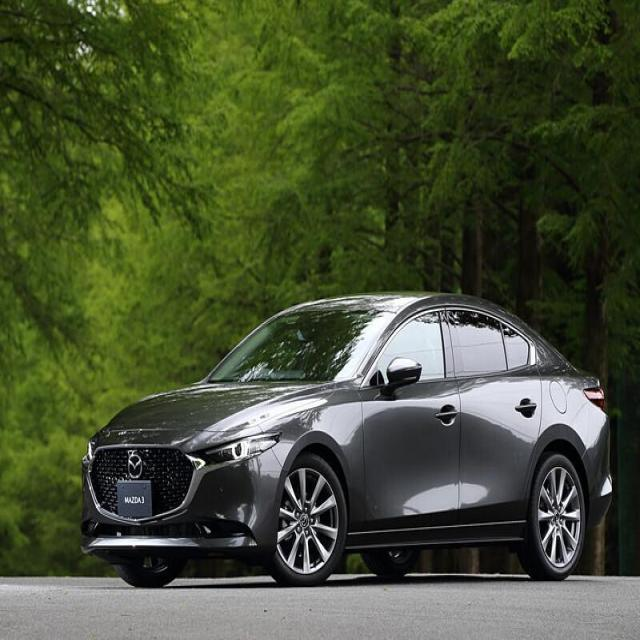Hatchback: (80, 293, 612, 591)
